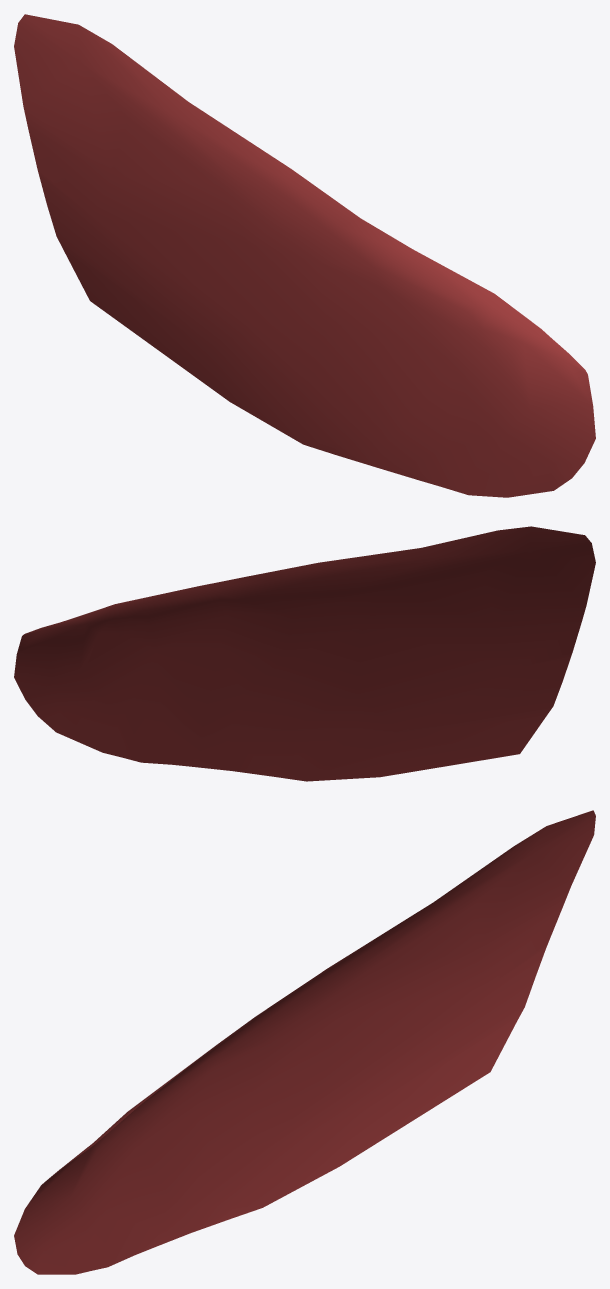
Rendered from pectoralis-minor-muscle-e2r.glb.
3 views of the same model, one above another, from view 1: azimuth 30°, elevation 25°; view 2: azimuth 210°, elevation 25°; view 3: azimuth 270°, elevation 25° (orthographic).
Visible parts, largest first — view 1: Pectoralis minor muscle.e2r; view 2: Pectoralis minor muscle.e2r; view 3: Pectoralis minor muscle.e2r.
Boxes of the visible parts, x1,y1,x2,y2 form: Pectoralis minor muscle.e2r: [14, 14, 595, 497]; Pectoralis minor muscle.e2r: [14, 526, 595, 781]; Pectoralis minor muscle.e2r: [14, 810, 595, 1274].
Bounding box in the file's own units: 0.0143 × 0.016 × 0.0236.
